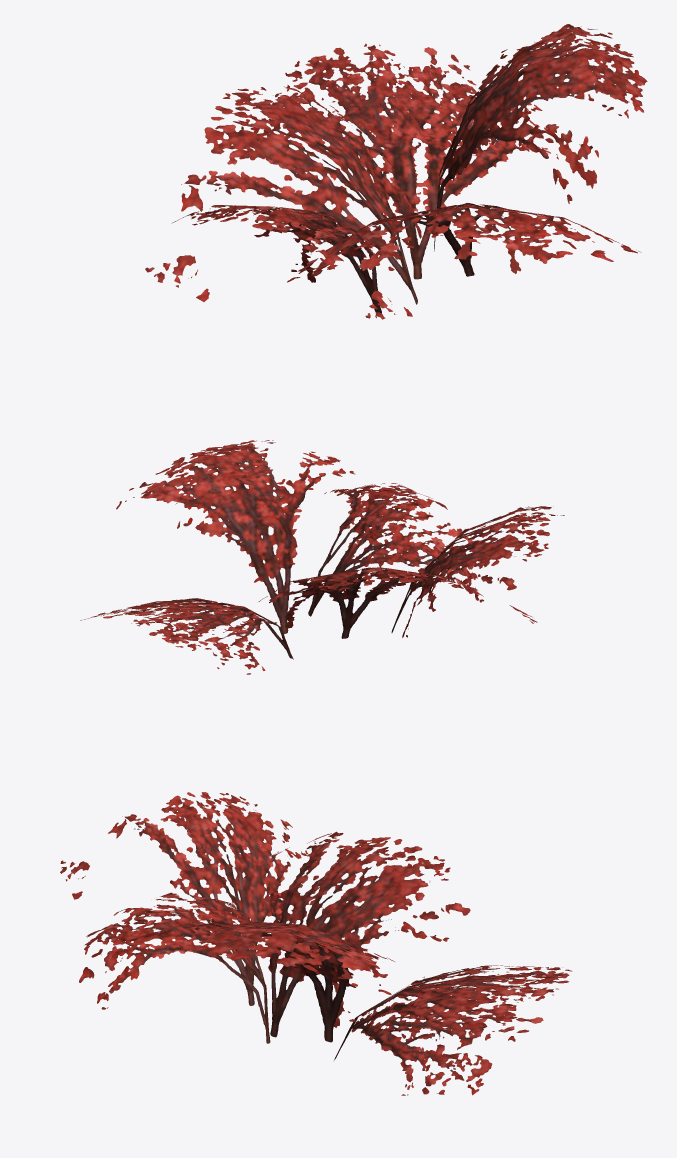
Rendered from SM_EN_Bush_1.fbx.
3 views of the same model, one above another, from view 1: azimuth 30°, elevation 25°; view 2: azimuth 150°, elevation 25°; view 3: azimuth 270°, elevation 25° (orthographic). The views are drawn at different scales.
Parts seen in each view (by area): view 1: SM_EN_Bush_1; view 2: SM_EN_Bush_1; view 3: SM_EN_Bush_1.
Part boxes in pixels (bbox=[...]): SM_EN_Bush_1: bbox=[145, 24, 647, 319]; SM_EN_Bush_1: bbox=[80, 440, 564, 674]; SM_EN_Bush_1: bbox=[60, 792, 572, 1095].
Size of the model in its own units: 337 by 341 by 116.
